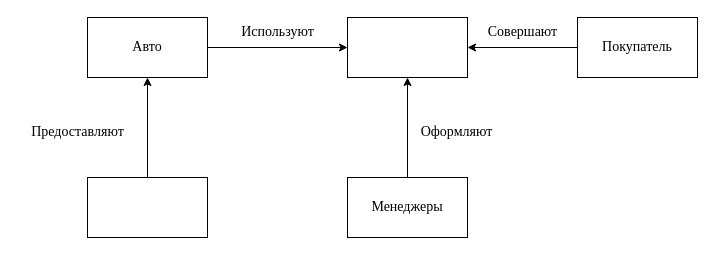
This 715x255 diagram has some shape labels left out. Here are the shapes that lost their labels. From the top down, the box of each, then its label:
(346, 16, 468, 78): Заказы
(86, 176, 208, 238): Филиалы
